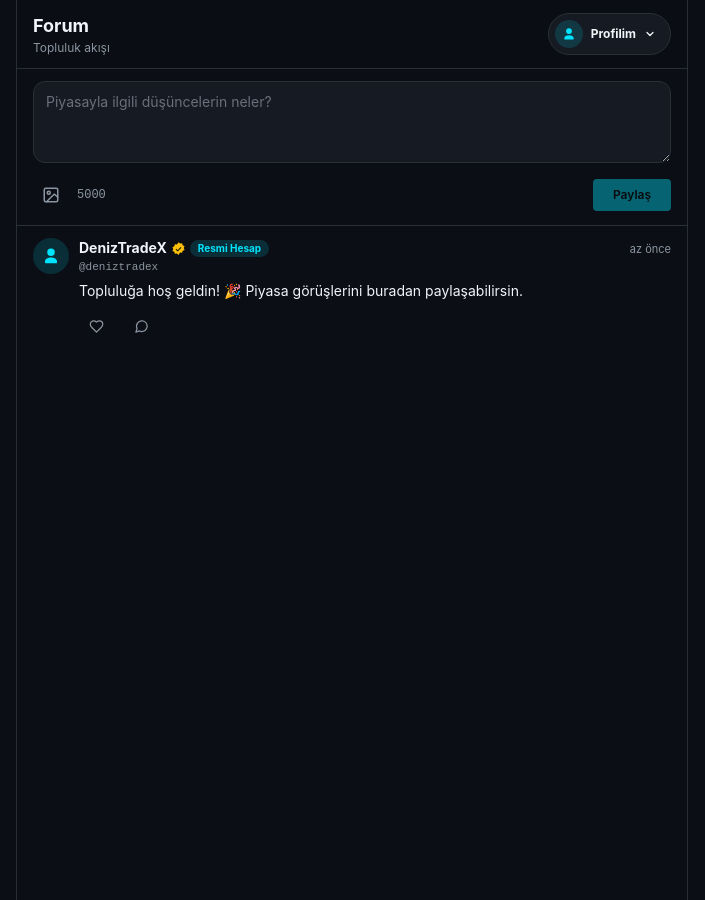
Test: ForumPage › publishes a typed post to the top of the feed
expect the text "Topluluğa hoş geldin" is shown: met, box [79,282,523,298]
Type "BTC bu hafta uçar mı?" into the text box named "Yeni gönderi" at point(352, 122), box [33,81,671,163]
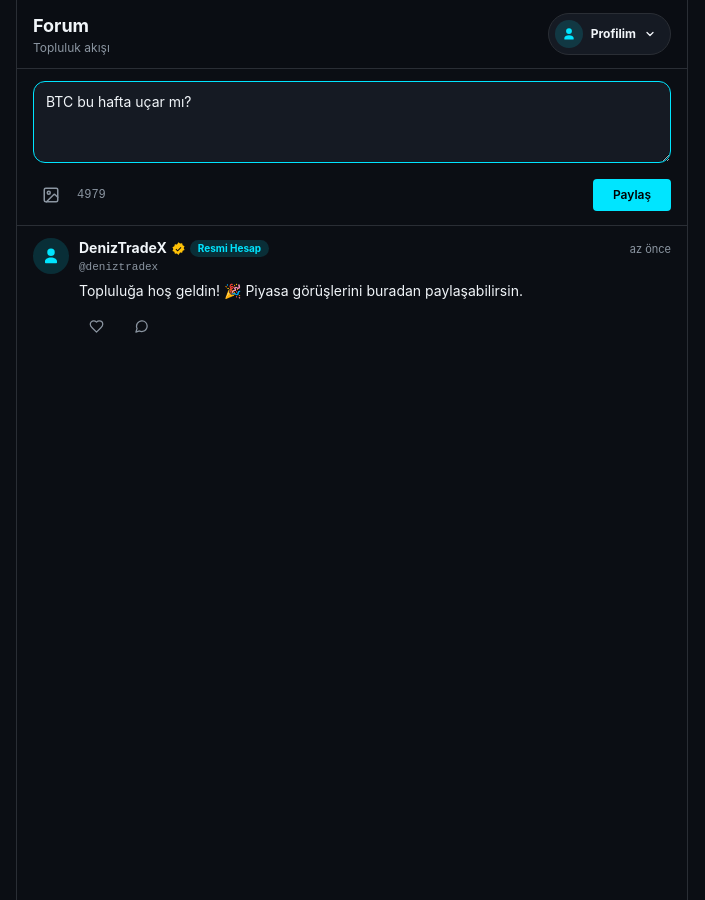
Click the button "Paylaş" at point(632, 195), box [593,179,671,211]
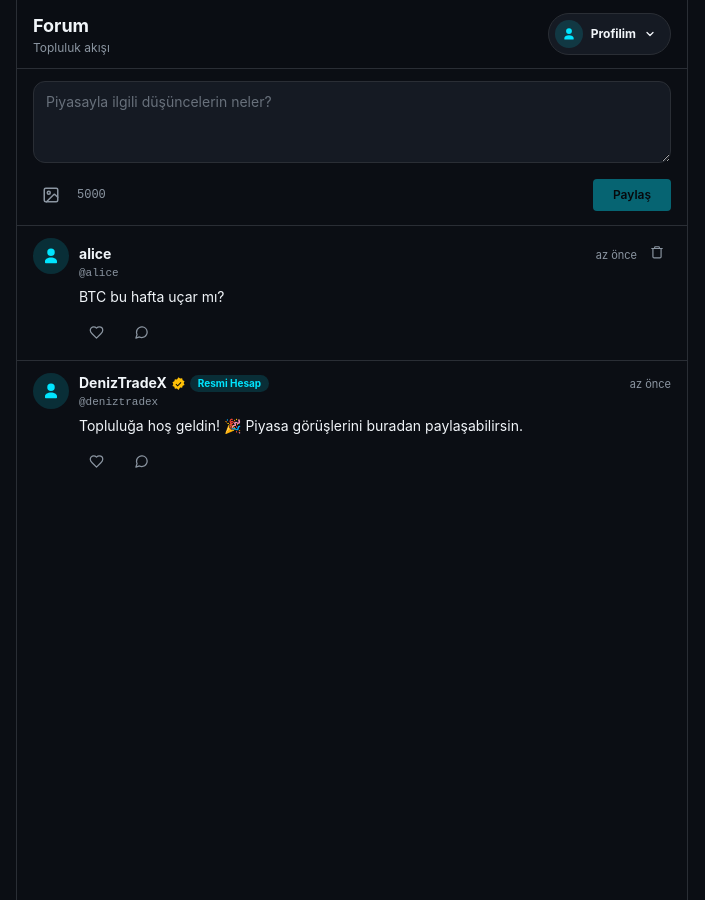
expect the text "BTC bu hafta uçar mı?" is shown: met, box [79,288,224,304]
